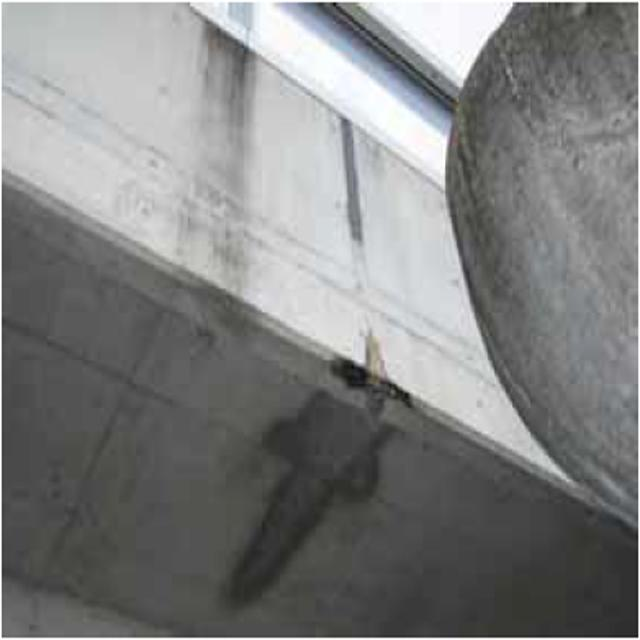leakage: (234, 323, 407, 608)
